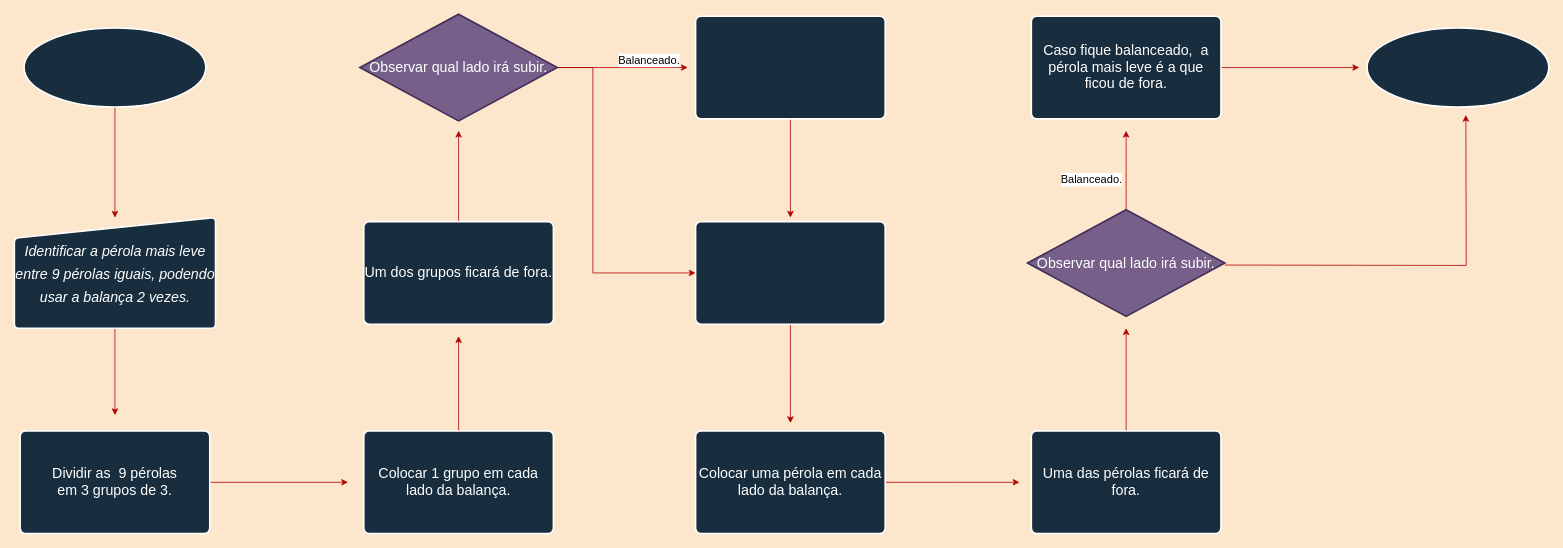
Image size: 1563x548. Some labels were removed from this diagram. Here are the shapes that lost their labels. From the top down, the centre of each, then its label:
(x=114, y=67): Início
(x=790, y=67): Caso fique balanceado, o grupo com a pérola mais leve é o que ficou de fora.
(x=1457, y=67): Fim
(x=790, y=272): Pegar as 3 pérolas do grupo identificado como mais leve.
